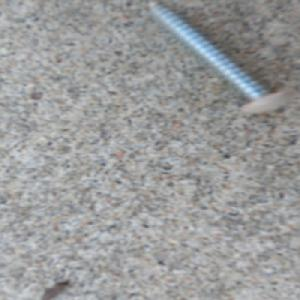Screw: (141, 0, 291, 115)
